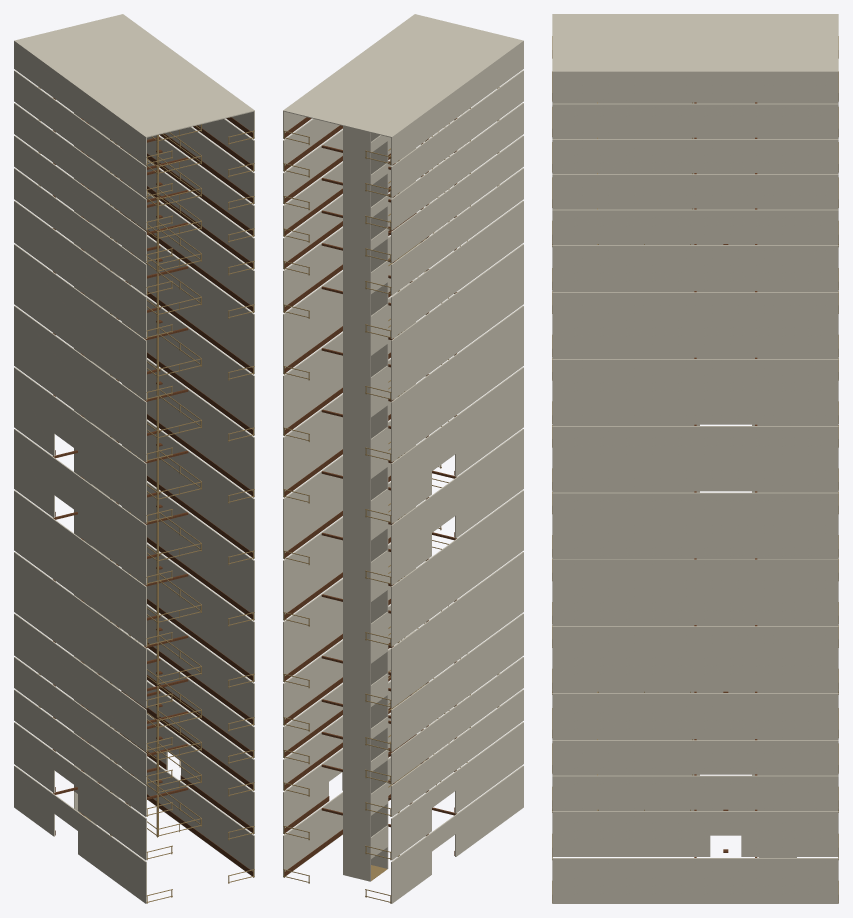
File: AST-CIR-005_forward_pool_market_engineering_access.glb
3 views of the same model, side by side, from view 1: azimuth 30°, elevation 25°; view 2: azimuth 150°, elevation 25°; view 3: azimuth 270°, elevation 25° (orthographic). The views are drawn at different scales.
Visible parts, largest first — view 1: CORE_TopCover, CORE_OuterWall_06_-1, CORE_OuterWall_10_-1, CORE_OuterWall_09_-1, CORE_OuterWall_05_-1, CORE_OuterWall_09_1, CORE_OuterWall_06_1, CORE_OuterWall_08_1, CORE_OuterWall_07_1, CORE_OuterWall_05_1, CORE_OuterWall_10_1, CORE_OuterWall_04_-1 (+43 smaller); view 2: CORE_ShaftNorth, CORE_TopCover, CORE_OuterWall_06_-1, CORE_OuterWall_10_-1, CORE_OuterWall_09_-1, CORE_OuterWall_05_-1, CORE_ShaftSouth, CORE_OuterWall_04_-1, CORE_OuterWall_11_-1, CORE_OuterWall_12_-1, CORE_OuterWall_03_-1, CORE_OuterWall_15_-1 (+37 smaller); view 3: CORE_OuterWall_07_1, CORE_OuterWall_05_1, CORE_OuterWall_06_1, CORE_OuterWall_08_1, CORE_OuterWall_09_1, CORE_OuterWall_10_1, CORE_TopCover, CORE_OuterWall_00_1, CORE_OuterWall_04_1, CORE_OuterWall_11_1, CORE_OuterWall_02_1, CORE_OuterWall_03_1 (+10 smaller).
Part boxes in pixels (left/top/right/bottom): CORE_TopCover: left=14, top=14, right=254, bottom=137; CORE_OuterWall_06_-1: left=14, top=490, right=146, bottom=646; CORE_OuterWall_10_-1: left=14, top=244, right=146, bottom=400; CORE_OuterWall_09_-1: left=14, top=305, right=146, bottom=461; CORE_OuterWall_05_-1: left=14, top=552, right=146, bottom=708; CORE_OuterWall_09_1: left=122, top=279, right=254, bottom=435; CORE_OuterWall_06_1: left=122, top=482, right=254, bottom=620; CORE_OuterWall_08_1: left=122, top=358, right=254, bottom=497; CORE_OuterWall_07_1: left=122, top=420, right=254, bottom=558; CORE_OuterWall_05_1: left=122, top=543, right=254, bottom=681; CORE_OuterWall_10_1: left=122, top=235, right=254, bottom=374; CORE_OuterWall_04_-1: left=14, top=613, right=146, bottom=751; CORE_ShaftNorth: left=343, top=106, right=370, bottom=881; CORE_TopCover: left=283, top=14, right=523, bottom=137; CORE_OuterWall_06_-1: left=391, top=490, right=523, bottom=646; CORE_OuterWall_10_-1: left=391, top=244, right=523, bottom=400; CORE_OuterWall_09_-1: left=391, top=305, right=523, bottom=461; CORE_OuterWall_05_-1: left=391, top=552, right=523, bottom=708; CORE_ShaftSouth: left=361, top=94, right=388, bottom=868; CORE_OuterWall_04_-1: left=391, top=613, right=523, bottom=751; CORE_OuterWall_11_-1: left=391, top=200, right=523, bottom=338; CORE_OuterWall_12_-1: left=391, top=168, right=523, bottom=295; CORE_OuterWall_03_-1: left=391, top=657, right=523, bottom=784; CORE_OuterWall_15_-1: left=391, top=70, right=523, bottom=197; CORE_OuterWall_07_1: left=552, top=492, right=838, bottom=558; CORE_OuterWall_05_1: left=552, top=626, right=838, bottom=691; CORE_OuterWall_06_1: left=552, top=559, right=838, bottom=624; CORE_OuterWall_08_1: left=552, top=426, right=838, bottom=491; CORE_OuterWall_09_1: left=552, top=359, right=838, bottom=424; CORE_OuterWall_10_1: left=552, top=292, right=838, bottom=357; CORE_TopCover: left=552, top=14, right=838, bottom=72; CORE_OuterWall_00_1: left=552, top=858, right=838, bottom=903; CORE_OuterWall_04_1: left=552, top=693, right=838, bottom=738; CORE_OuterWall_11_1: left=552, top=245, right=838, bottom=290; CORE_OuterWall_02_1: left=552, top=775, right=838, bottom=809; CORE_OuterWall_03_1: left=552, top=740, right=838, bottom=774.
Size of the model in its own units: 15.76 by 106 by 33.08.
Materials: 4 (3 with a texture image).
